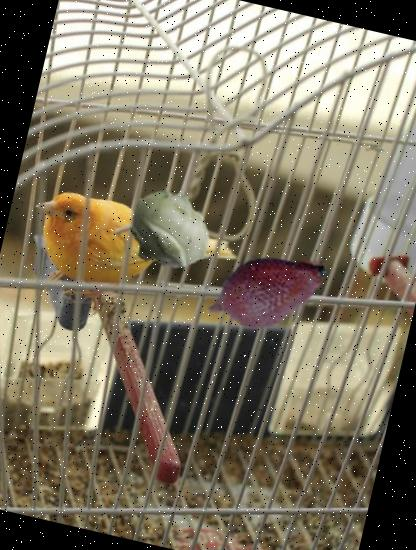Kohlrabi: (115, 179, 224, 288)
Salak: (190, 216, 340, 366)
